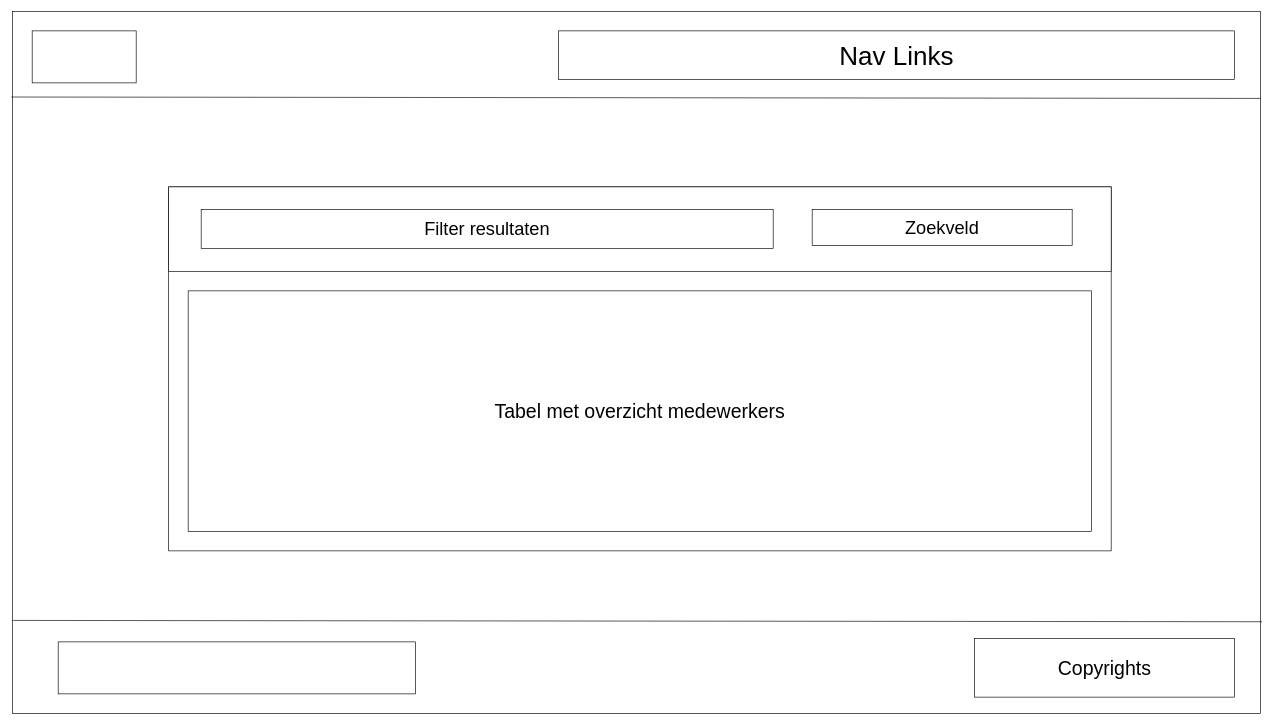
The diagram is 1274 pixels wide and 725 high, and some of its shapes have lost their labels. The centre of each missing label's shape, as x and y in pixels:
info: [237,667]
Logo: [84,56]
